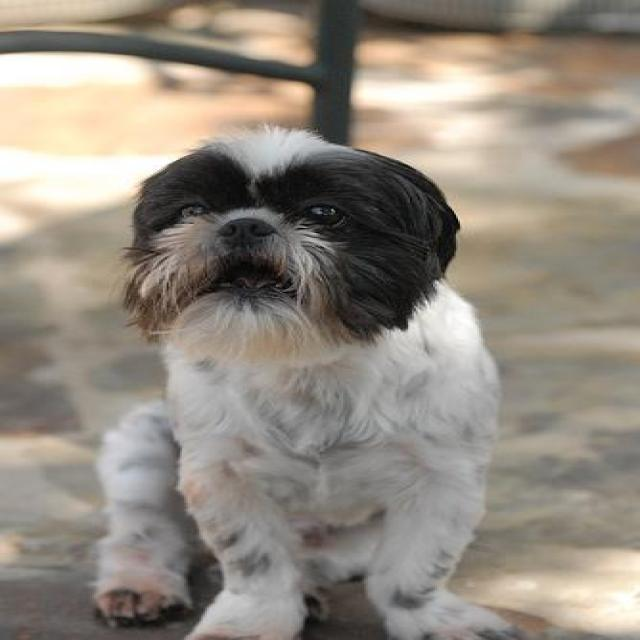shih_tzu: (90, 124, 521, 638)
